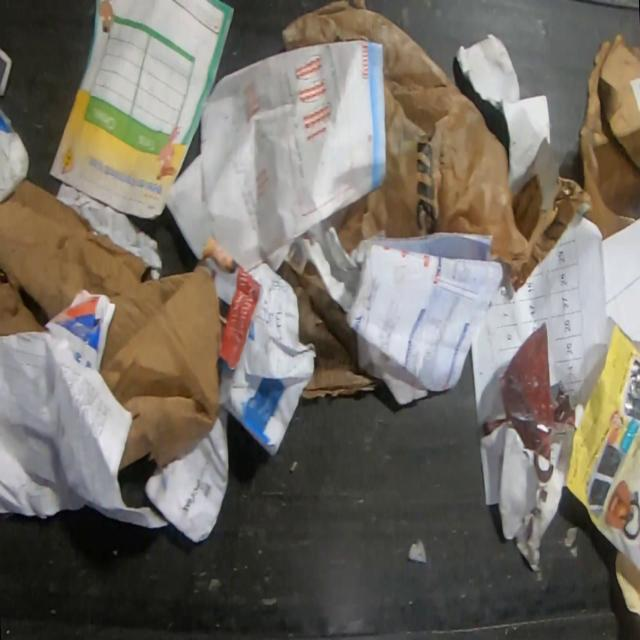cardboard: (100, 256, 228, 474), (0, 177, 150, 337), (452, 30, 553, 186), (275, 259, 379, 399), (577, 31, 640, 241), (508, 171, 592, 292), (614, 547, 640, 615)
soft_plastic: (278, 0, 530, 268)
